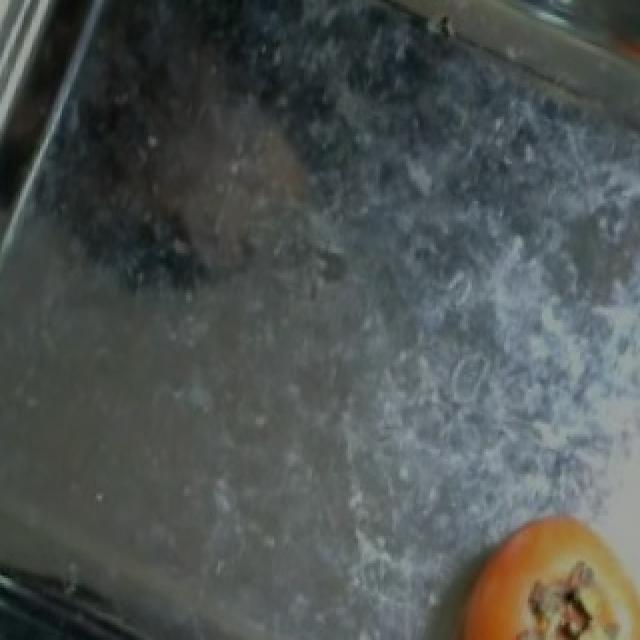Fruit: (432, 496, 638, 640)
